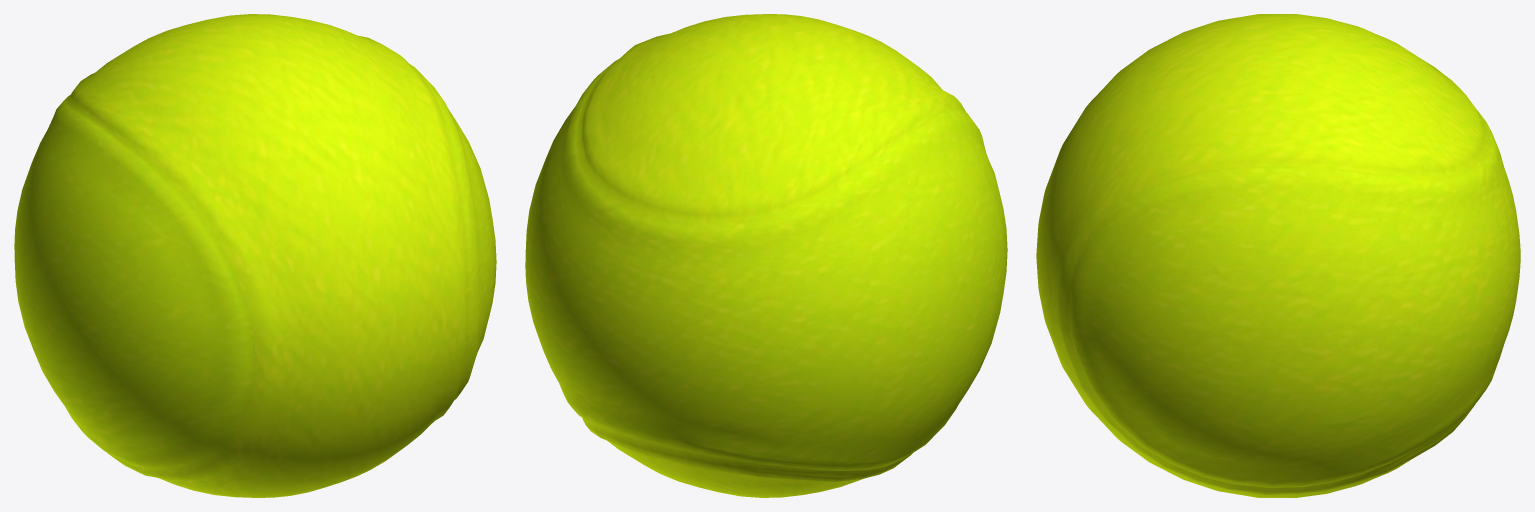
The model's file is baseball_01.glb.
The picture shows the model from 3 angles, left to right: view 1: azimuth 30°, elevation 25°; view 2: azimuth 150°, elevation 25°; view 3: azimuth 270°, elevation 25°; orthographic projection.
Parts seen in each view (by area): view 1: baseball_01; view 2: baseball_01; view 3: baseball_01.
Boxes of the visible parts, x1,y1,x2,y2 form: baseball_01: (14,14,496,497); baseball_01: (525,14,1007,497); baseball_01: (1036,14,1520,497).
Size of the model in its own units: 0.074 by 0.0756 by 0.0754.
Materials: 1 (1 with a texture image).
